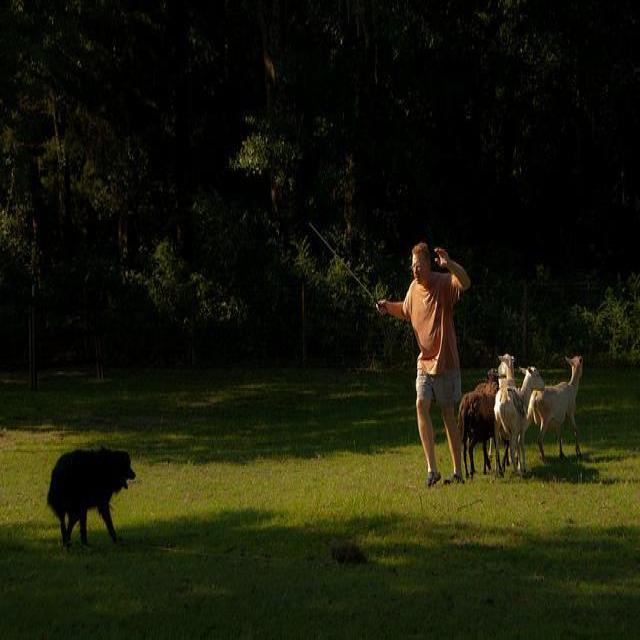Sheep: (515, 356, 585, 467), (495, 365, 547, 477), (458, 392, 500, 482), (458, 368, 499, 426)
